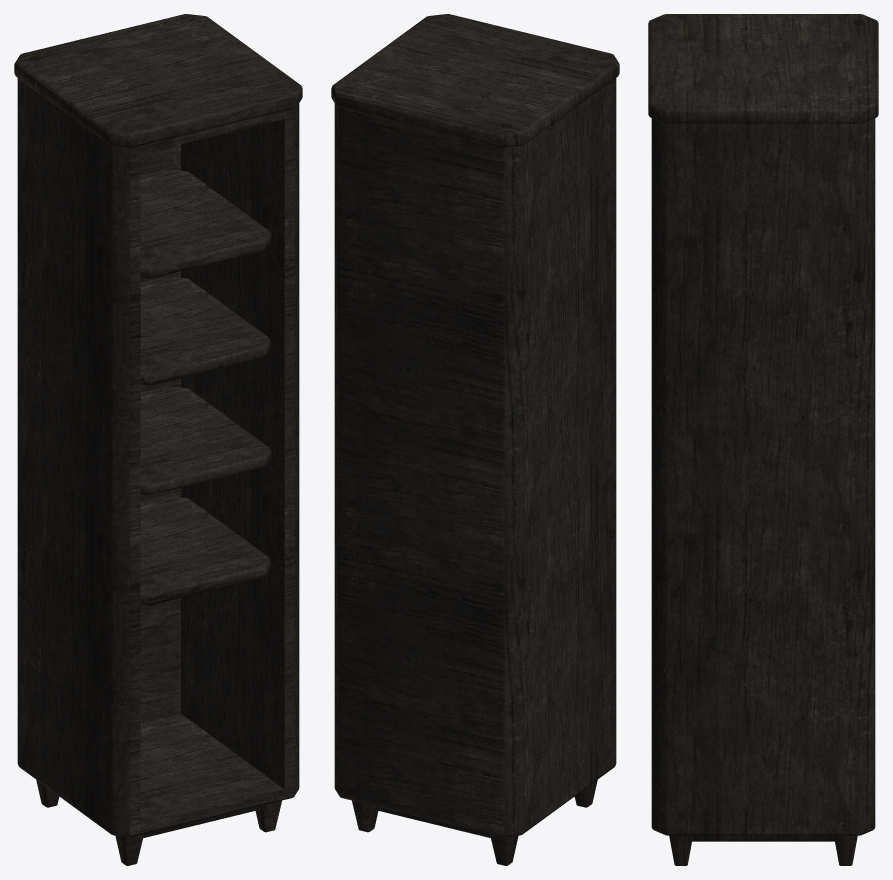
Rendered from wardrobe_7.obj.
3 renders of one model, left to right at view 1: azimuth 30°, elevation 25°; view 2: azimuth 150°, elevation 25°; view 3: azimuth 270°, elevation 25°, orthographic. The views are drawn at different scales.
Visible parts, largest first — view 1: wardrobe_7; view 2: wardrobe_7; view 3: wardrobe_7.
Part boxes in pixels (<box>): wardrobe_7: <box>14,14,302,865</box>; wardrobe_7: <box>331,14,619,865</box>; wardrobe_7: <box>648,14,878,865</box>.
Size of the model in its own units: 0.7 by 2.57 by 0.7.
